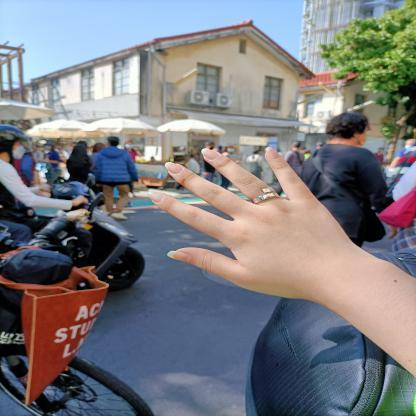bare_hand: (142, 138, 370, 306)
